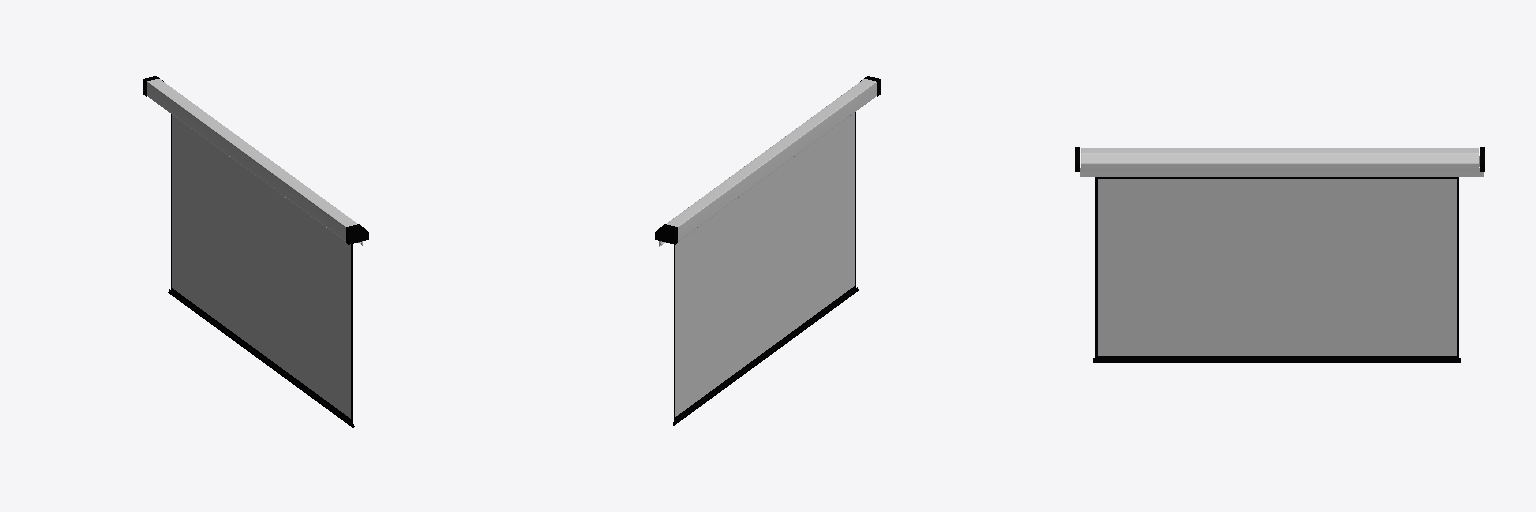
Rendered from project_screen.obj.
The picture shows the model from 3 angles: view 1: azimuth 30°, elevation 25°; view 2: azimuth 150°, elevation 25°; view 3: azimuth 270°, elevation 25°; orthographic projection.
Visible parts, largest first — view 1: Cylinder126, Box325; view 2: Cylinder126, Box325; view 3: Cylinder126, Box325, Line010.
Part boxes in pixels (x1,y1,x2,y2): Cylinder126: (169,114,352,426); Box325: (147,79,356,240); Cylinder126: (674,112,857,424); Box325: (667,79,876,240); Cylinder126: (1094,177,1459,362); Box325: (1081,148,1479,170); Line010: (1080,168,1483,176).
Bounding box in the file's own units: 0.1999 × 1.96 × 3.5.